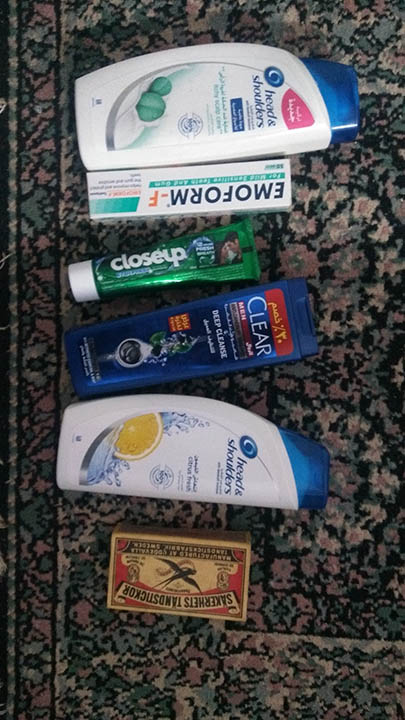Shampoo-Clear 4.7$: (60, 279, 341, 392)
Toothpaste-Closeup 3.04$: (68, 217, 260, 306)
Toothpaste-F 1.5$: (75, 159, 297, 221)
match-sticks .90$: (108, 519, 248, 622)
shampoo-Lemon 3.5$: (48, 405, 329, 515)
shampoo-green 4.5$: (74, 49, 360, 155)
